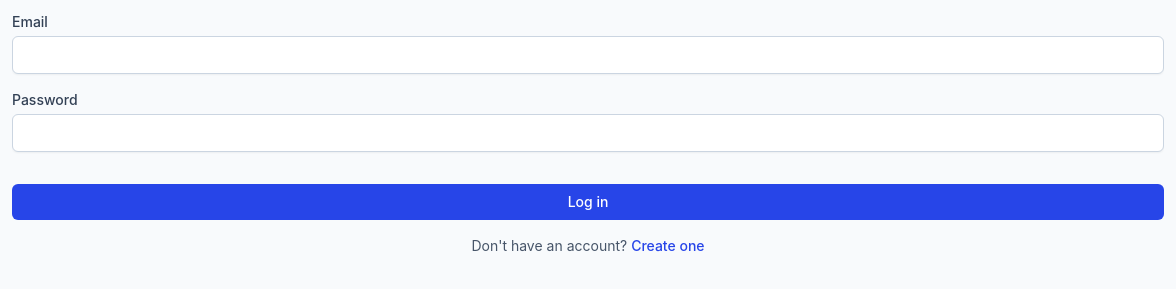
Test: LoginForm › shows an error for a malformed (but non-empty) email
The image size is (1176, 289).
In the field labelled "Email": (588, 55) [12,36,1164,74], type "not-an-email"
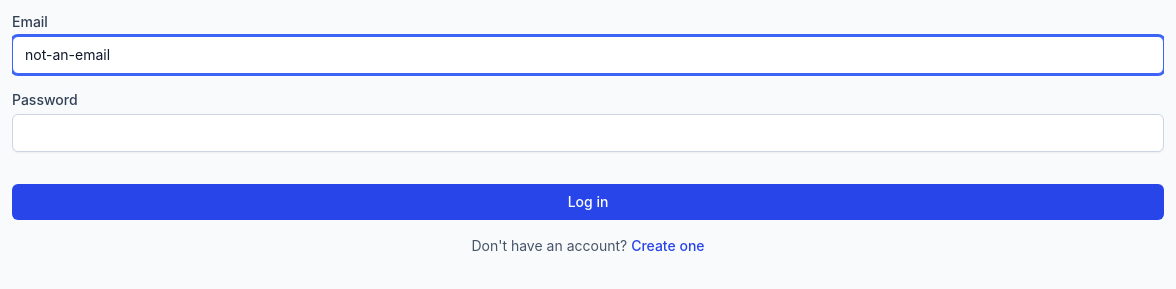
In the password field labelled "Password": (588, 133) [12,114,1164,152], type "some-password"
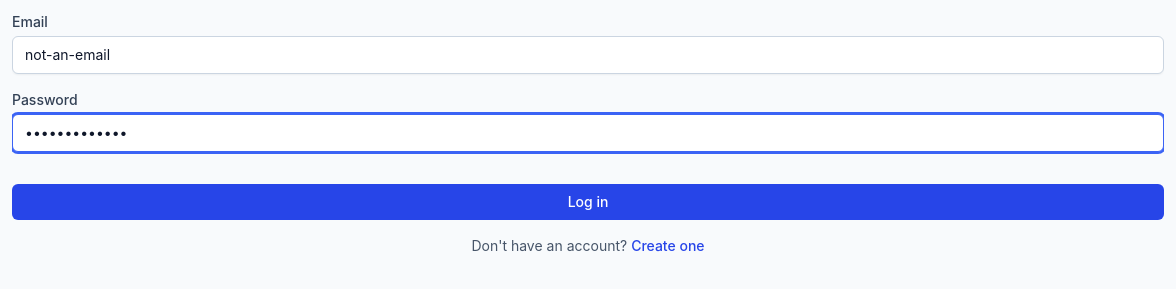
Click the button "Log in": (588, 202) [12,184,1164,220]
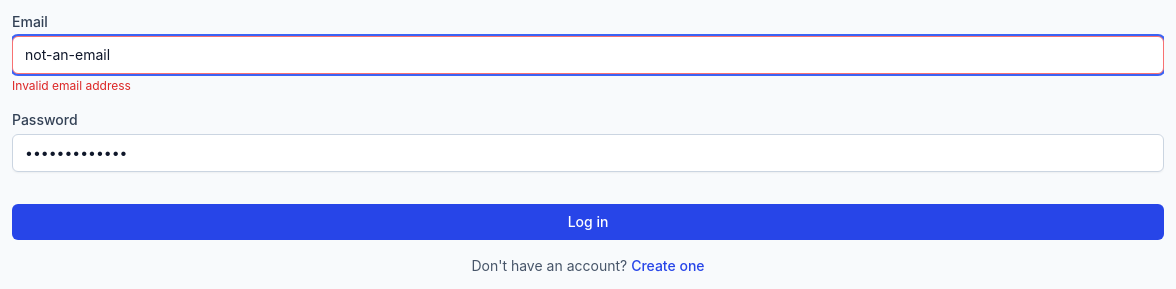
Check: the text "Invalid email address" is shown, box [12,78,131,93]
